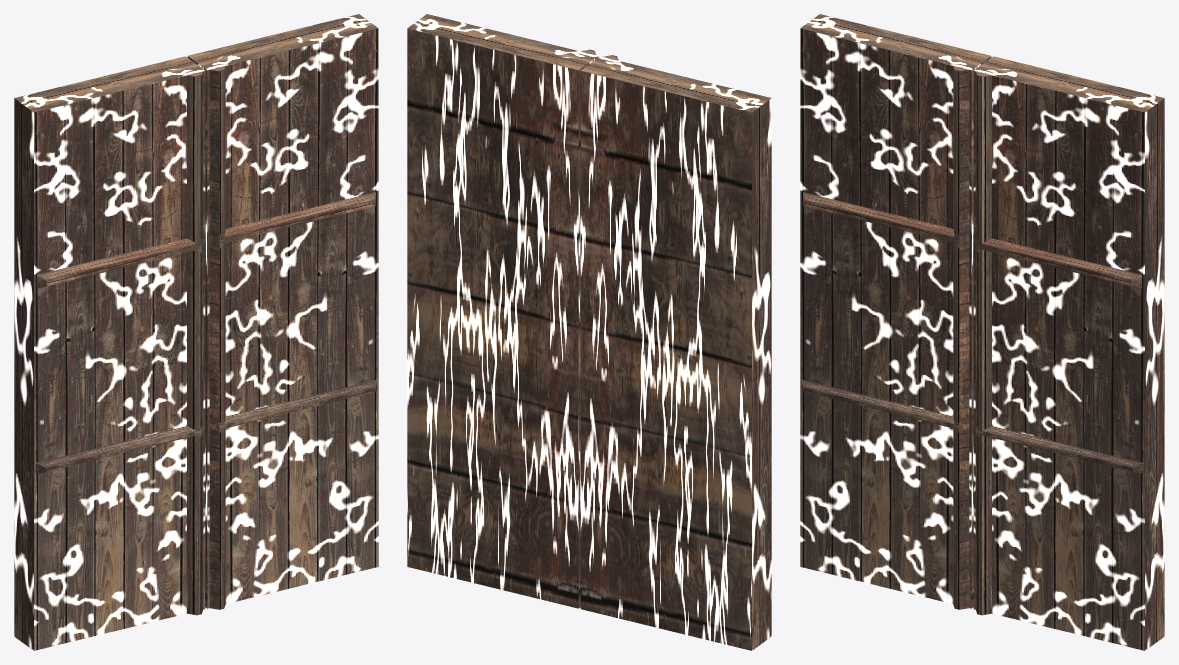
The model's file is target_door.fbx.
3 renders of one model, left to right at view 1: azimuth 30°, elevation 25°; view 2: azimuth 150°, elevation 25°; view 3: azimuth 330°, elevation 25°, orthographic.
Parts seen in each view (by area): view 1: door, planks; view 2: door; view 3: door, planks.
Part boxes in pixels (<box>): door: <box>14,14,378,650</box>; planks: <box>35,66,376,615</box>; door: <box>407,14,771,650</box>; door: <box>800,14,1164,650</box>; planks: <box>802,66,1143,615</box>.
Size of the model in its own units: 402 by 600 by 48.63.
